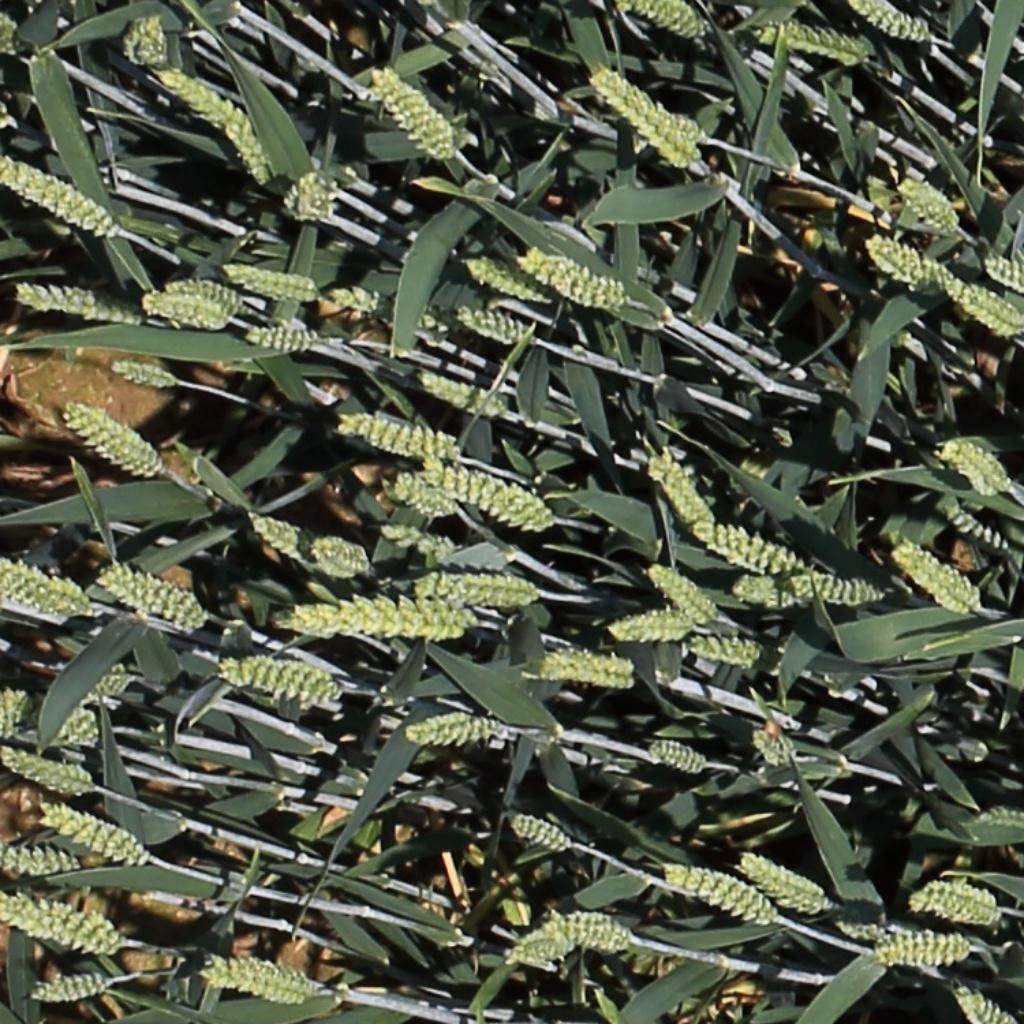0-0: (157, 65, 273, 181), (421, 461, 563, 537), (591, 69, 696, 166), (2, 154, 119, 239), (275, 587, 465, 636), (61, 405, 170, 485), (0, 893, 126, 961), (655, 856, 780, 923), (688, 521, 827, 581), (892, 537, 992, 620), (367, 68, 451, 157), (339, 407, 467, 465), (518, 249, 637, 310), (333, 286, 456, 345), (214, 649, 334, 703), (736, 846, 827, 916), (534, 640, 641, 699), (40, 805, 143, 866), (415, 566, 545, 613), (94, 567, 199, 625), (936, 271, 1024, 340), (202, 955, 316, 1004), (649, 447, 715, 531), (872, 924, 985, 972), (753, 24, 875, 68), (533, 909, 637, 959), (907, 876, 1002, 930), (730, 570, 823, 623), (782, 564, 888, 609), (0, 558, 86, 613), (644, 562, 718, 625), (402, 710, 511, 752), (49, 653, 141, 702), (13, 285, 137, 320), (218, 262, 318, 305), (862, 234, 940, 289), (136, 292, 243, 332), (0, 749, 92, 794), (417, 371, 505, 417), (940, 436, 1004, 499), (936, 501, 1010, 555), (461, 256, 548, 301), (895, 173, 959, 233), (850, 0, 932, 42), (498, 926, 579, 968), (281, 166, 337, 225), (31, 698, 98, 747), (625, 0, 707, 39), (241, 321, 328, 355), (378, 522, 454, 559), (387, 475, 454, 516), (120, 9, 165, 69), (243, 512, 301, 558), (30, 974, 115, 1005), (823, 901, 884, 944), (0, 845, 77, 878), (454, 309, 529, 342), (506, 812, 570, 850), (953, 985, 1010, 1024), (308, 539, 367, 573), (645, 739, 707, 771), (682, 638, 761, 663), (106, 359, 176, 387), (752, 727, 797, 770), (981, 255, 1024, 293), (607, 621, 690, 637), (974, 806, 1024, 828)
